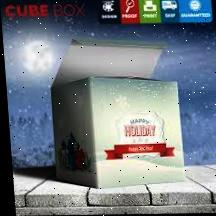cube: (49, 77, 185, 186)
